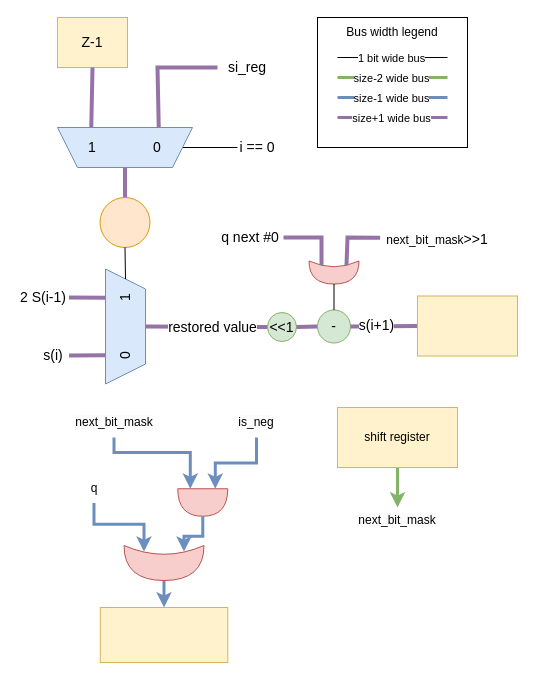
Some shapes in this 535 by 680 pixel diagram are drawn without their labels. The box of each missing label's shape, as (x1, y1, x2, y2) in pixels:
is neg: (99, 196, 150, 248)
q register: (99, 606, 228, 662)
S register: (416, 295, 518, 356)
